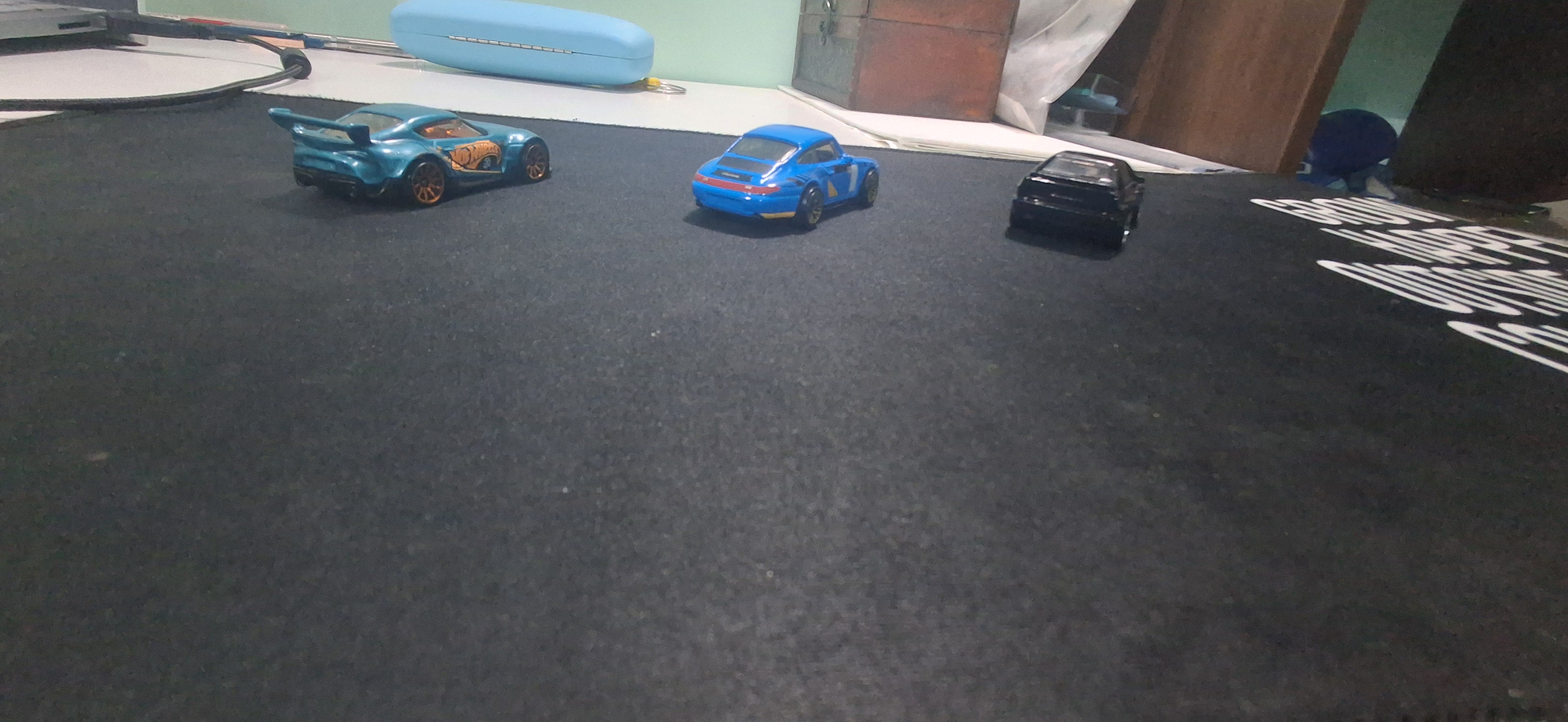Audi_Quattro: (983, 135, 1159, 267)
Porsche_Carrera: (676, 90, 900, 248)
Toyota_GR_Supra: (242, 73, 577, 221)
